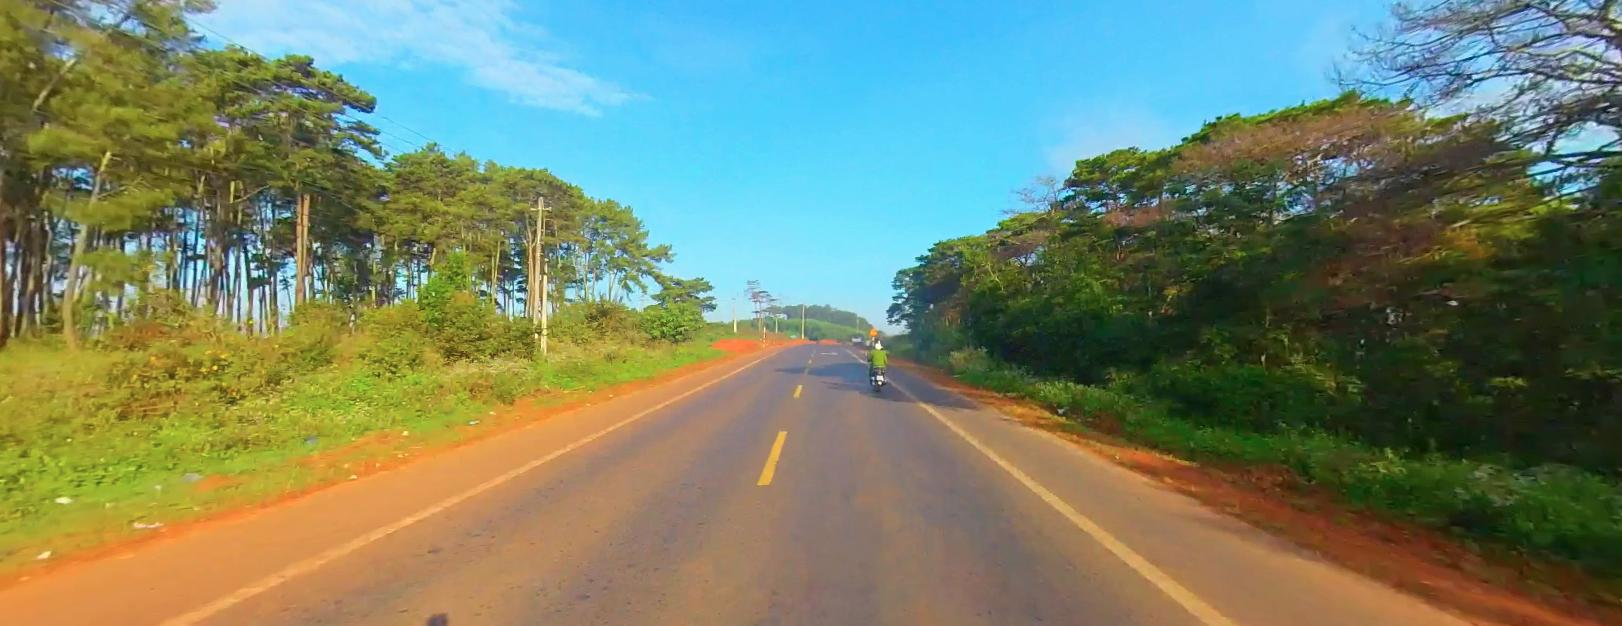Nguy hiem: (868, 325, 878, 333)
